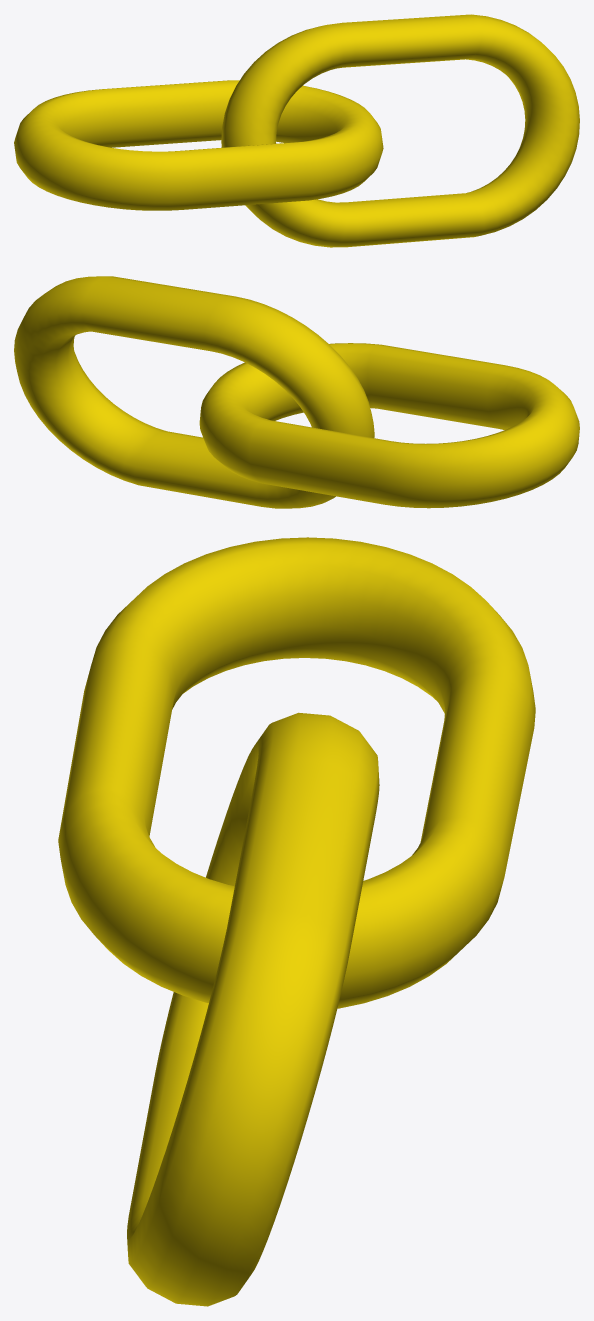
Rendered from chain.fbx.
The picture shows the model from 3 angles, top to bottom: view 1: azimuth 30°, elevation 25°; view 2: azimuth 150°, elevation 25°; view 3: azimuth 270°, elevation 25°; orthographic projection. The views are drawn at different scales.
Visible parts, largest first — view 1: test0707; view 2: test0707; view 3: test0707.
Part boxes in pixels (x1=…): test0707: x1=14, y1=14, x2=579, y2=247; test0707: x1=14, y1=276, x2=579, y2=508; test0707: x1=58, y1=537, x2=535, y2=1306.
Size of the model in its own units: 528 by 205 by 208.
